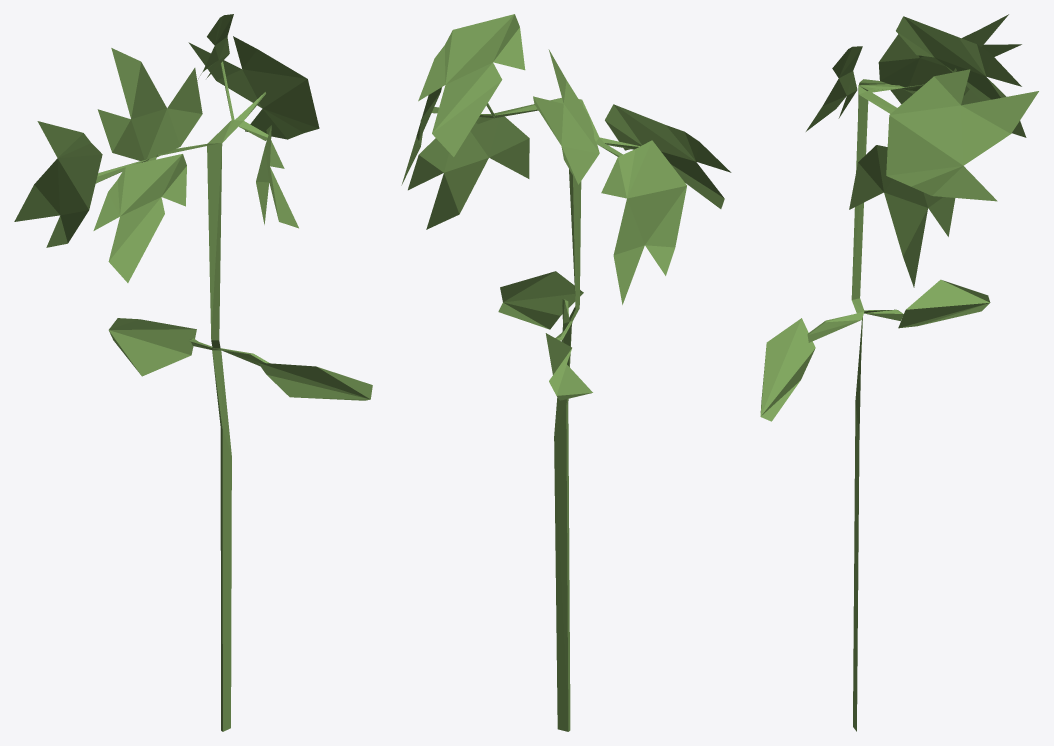
File: Tomato_3.fbx
The picture shows the model from 3 angles, left to right: view 1: azimuth 30°, elevation 25°; view 2: azimuth 150°, elevation 25°; view 3: azimuth 270°, elevation 25°; orthographic projection. The views are drawn at different scales.
Visible parts, largest first — view 1: Tomato_3; view 2: Tomato_3; view 3: Tomato_3.
Boxes of the visible parts, box(x1,y1,x2,y2) form: Tomato_3: box(14, 14, 372, 731); Tomato_3: box(401, 14, 731, 731); Tomato_3: box(760, 14, 1038, 731).
Size of the model in its own units: 49.69 by 127 by 44.24.
